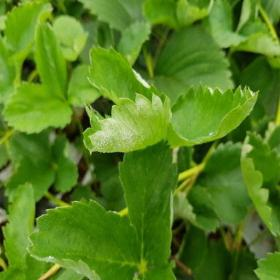Powdery Mildew Leaf: (26, 199, 142, 279), (167, 81, 261, 149), (82, 92, 172, 155), (87, 45, 160, 105)
